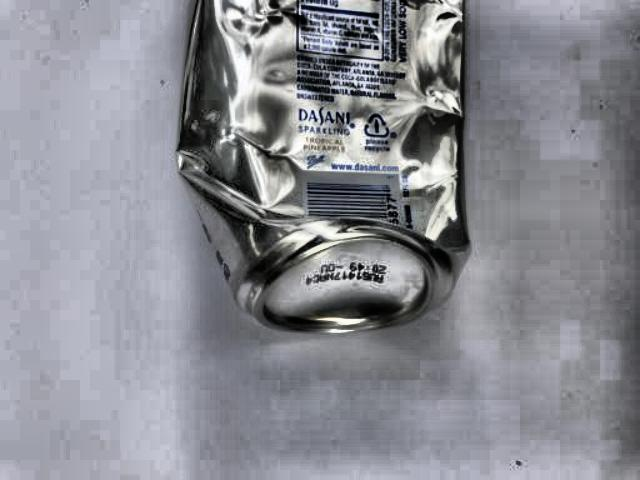Bottles: (163, 0, 478, 336)
